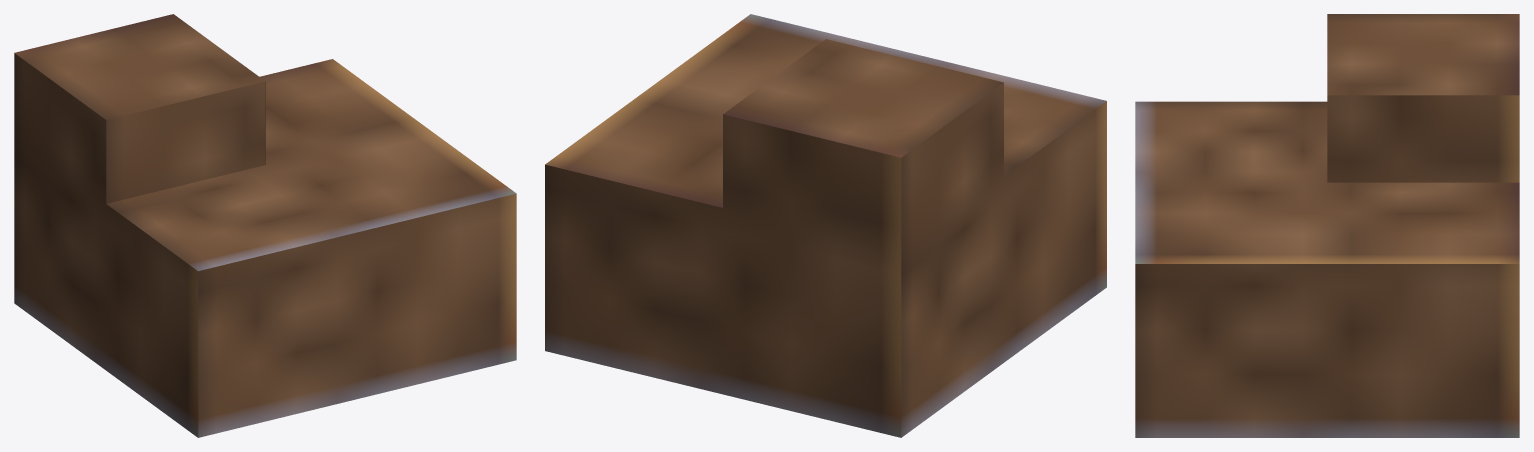
Rendered from Grass_Destroy_Step3.fbx.
3 views of the same model, side by side, from view 1: azimuth 30°, elevation 25°; view 2: azimuth 150°, elevation 25°; view 3: azimuth 270°, elevation 25° (orthographic). The views are drawn at different scales.
Parts seen in each view (by area): view 1: Grass_Destroy_Step3; view 2: Grass_Destroy_Step3; view 3: Grass_Destroy_Step3.
Part boxes in pixels (x1=…): Grass_Destroy_Step3: x1=14, y1=14, x2=516, y2=437; Grass_Destroy_Step3: x1=545, y1=14, x2=1106, y2=437; Grass_Destroy_Step3: x1=1135, y1=14, x2=1519, y2=437.
Size of the model in its own units: 25 by 18.79 by 25.
Materials: 1 (1 with a texture image).
